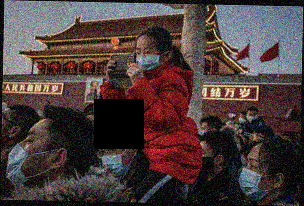mask_weared_incorrect: (247, 131, 263, 150)
with_mask: (6, 126, 56, 189), (239, 154, 275, 200), (95, 140, 134, 179), (133, 44, 164, 73), (198, 142, 218, 174), (199, 123, 211, 137), (244, 112, 258, 122), (237, 114, 245, 124)
